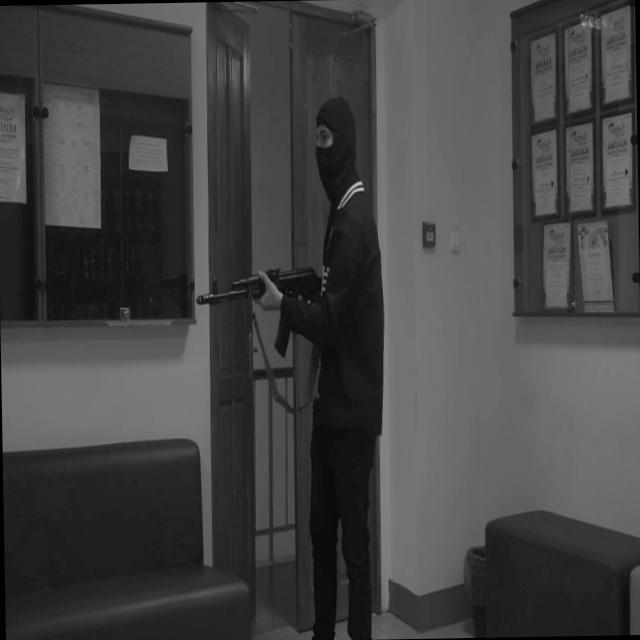gun: (195, 264, 332, 360)
person with a gun: (192, 99, 390, 640)
